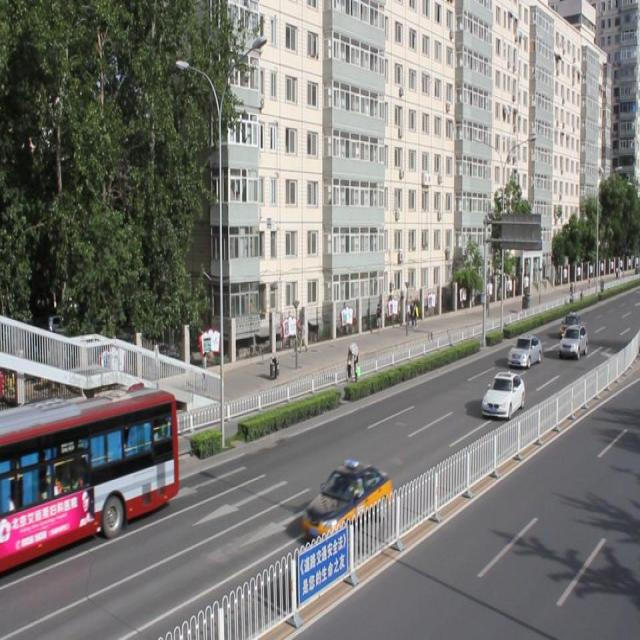car: (302, 460, 390, 539), (479, 369, 524, 418), (507, 332, 540, 368), (556, 322, 586, 357)
van: (1, 386, 178, 569)
